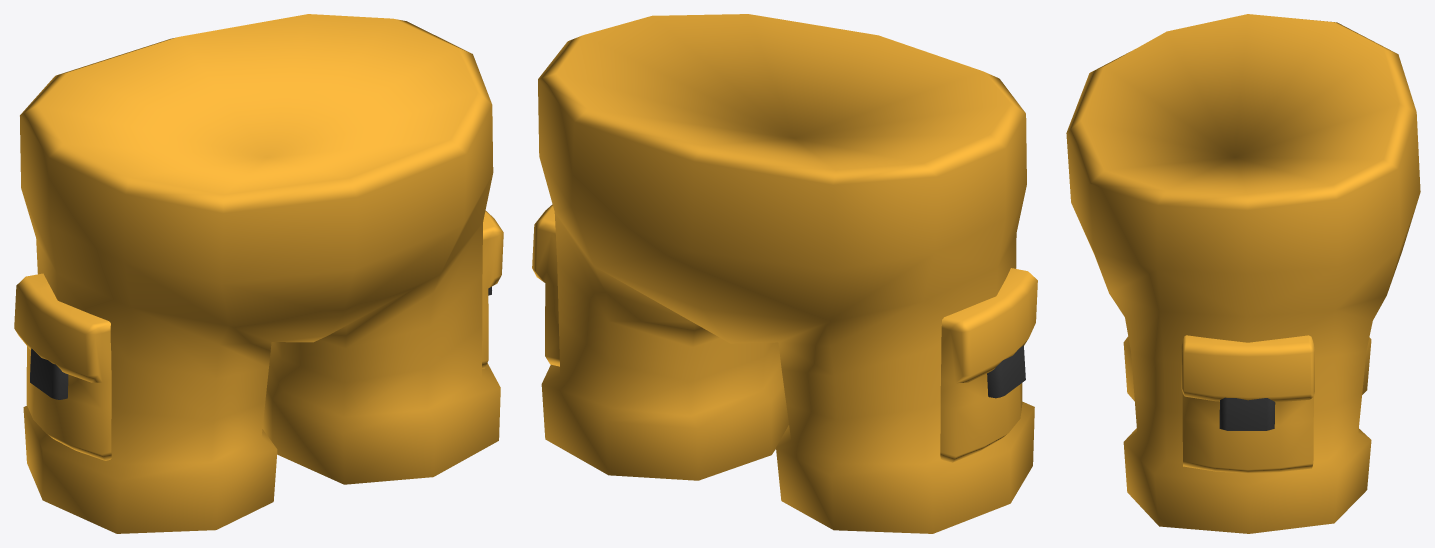
Rendered from Bottom_13.fbx.
3 renders of one model, left to right at view 1: azimuth 30°, elevation 25°; view 2: azimuth 150°, elevation 25°; view 3: azimuth 270°, elevation 25°, orthographic. The views are drawn at different scales.
Parts seen in each view (by area): view 1: Bottom_13; view 2: Bottom_13; view 3: Bottom_13.
Part boxes in pixels (box(x1,y1,x2,y2)): Bottom_13: box(14, 14, 503, 533); Bottom_13: box(532, 14, 1037, 533); Bottom_13: box(1066, 14, 1420, 533).
Bounding box in the file's own units: 40.16 × 32.12 × 29.68.
